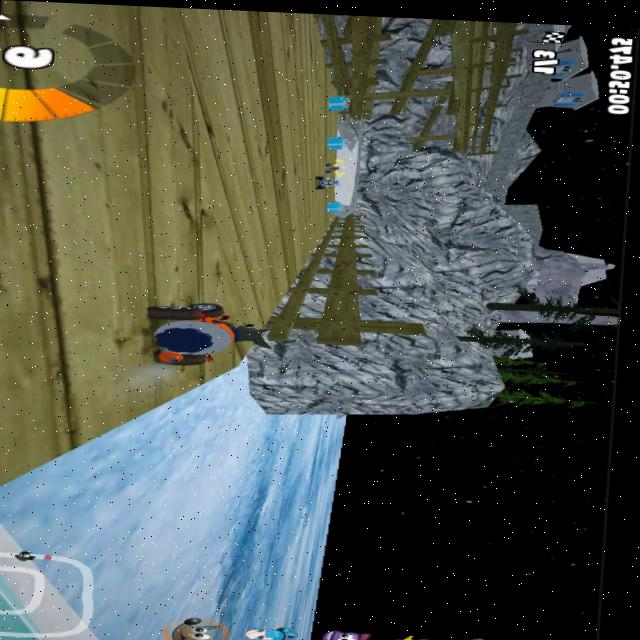bonus: (320, 133, 352, 156), (327, 91, 352, 114), (320, 202, 349, 218)
enemy_kart: (313, 173, 342, 192)
track: (124, 6, 326, 245), (0, 124, 110, 431), (82, 113, 151, 410), (130, 233, 291, 290), (136, 282, 276, 309), (347, 144, 358, 191), (327, 196, 359, 202)
